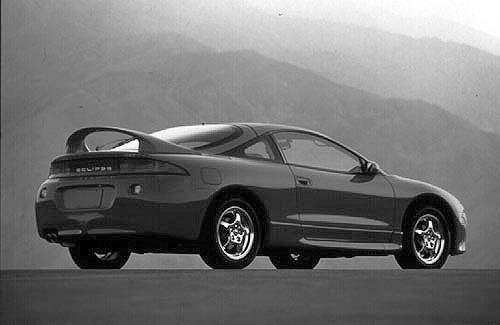car: (37, 123, 472, 271)
